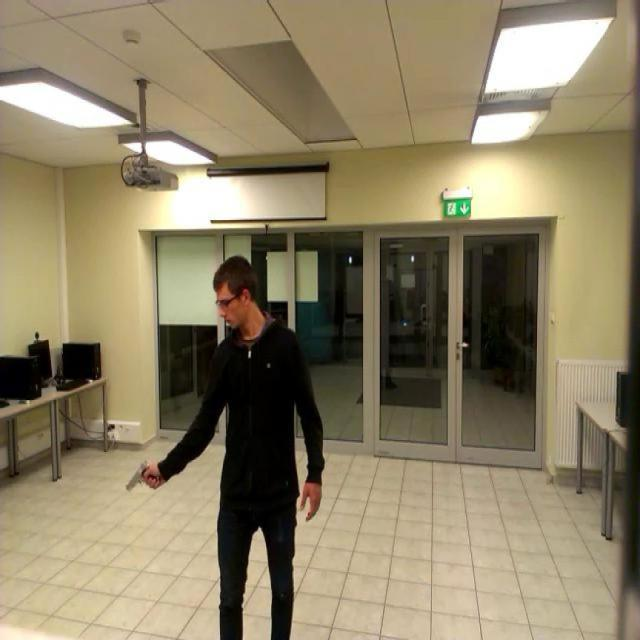pistol: (125, 458, 160, 489)
